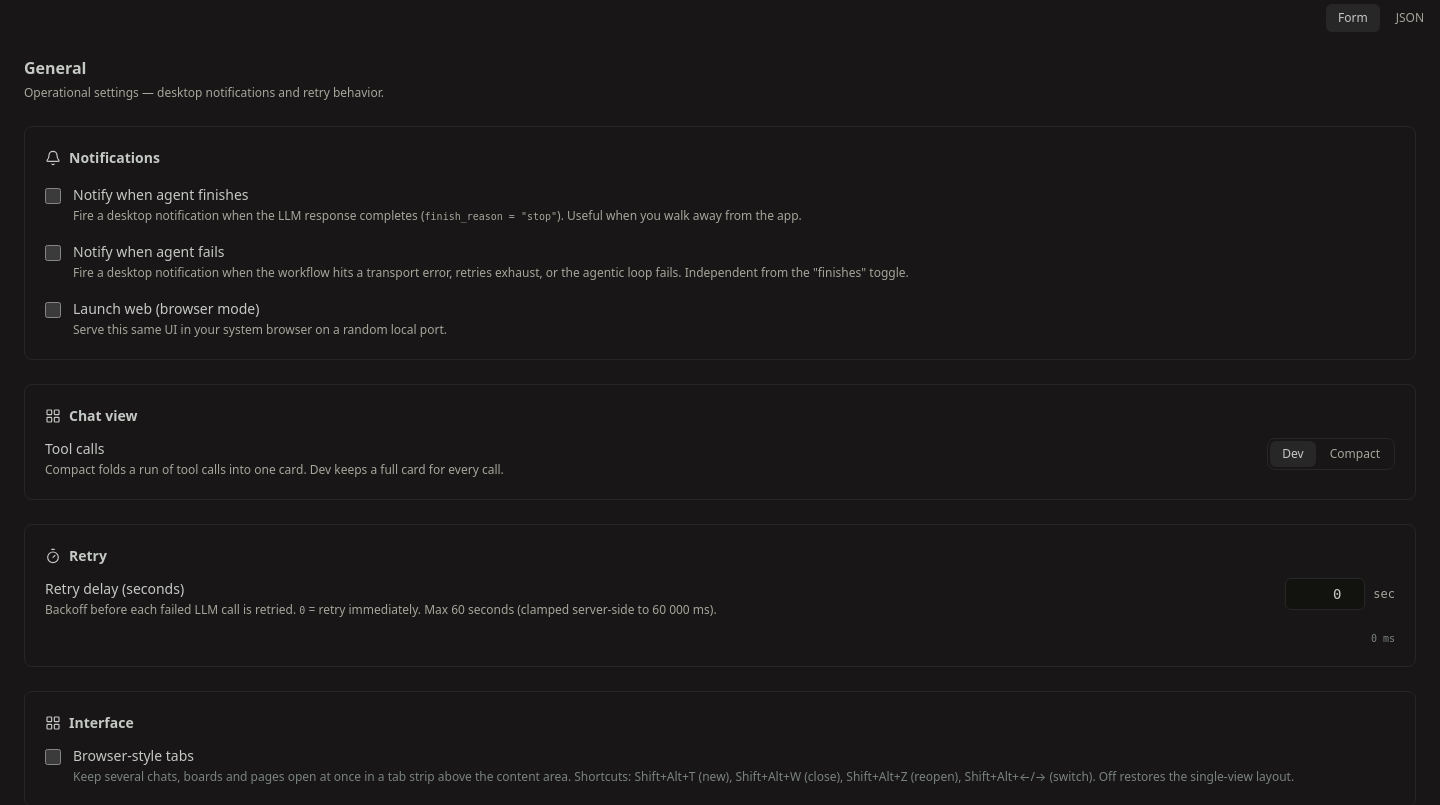
Test case: PabrikConfigEditor (orchestrator) › reports a rejected change in the strip instead of claiming it was saved
The width and height of the screenshot is (1440, 805).
Step 1. Click the checkbox with test id "toggle-notify-on-error" → [53, 253], box [45, 245, 61, 261]
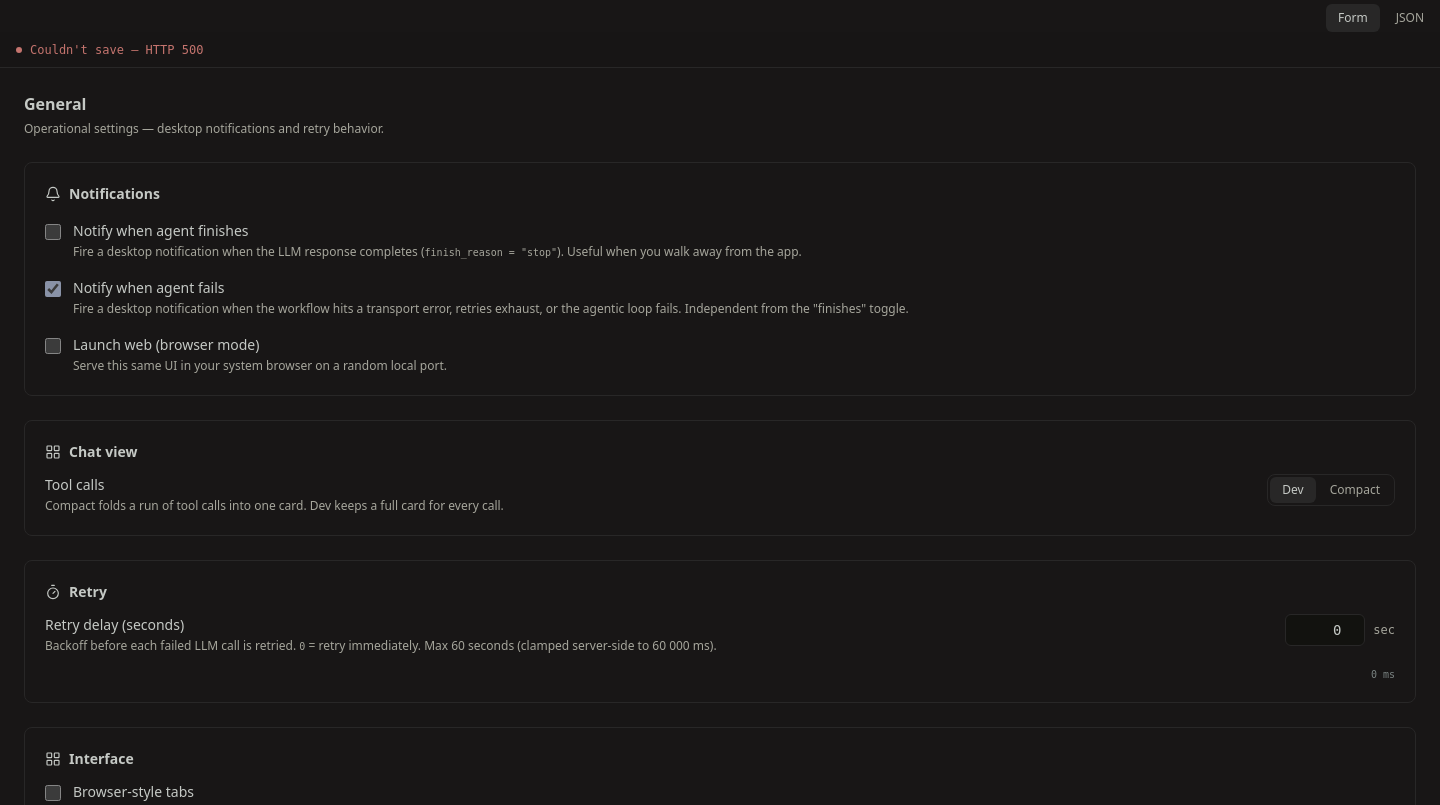
Check: the text with test id "save-status-text" shows "Couldn't save", box [30, 42, 203, 56]
Check: the text with test id "save-status-text" shows "HTTP 500", box [30, 42, 203, 56]
Step 2. Click the checkbox with test id "toggle-notify-on-complete" → [53, 232], box [45, 224, 61, 240]
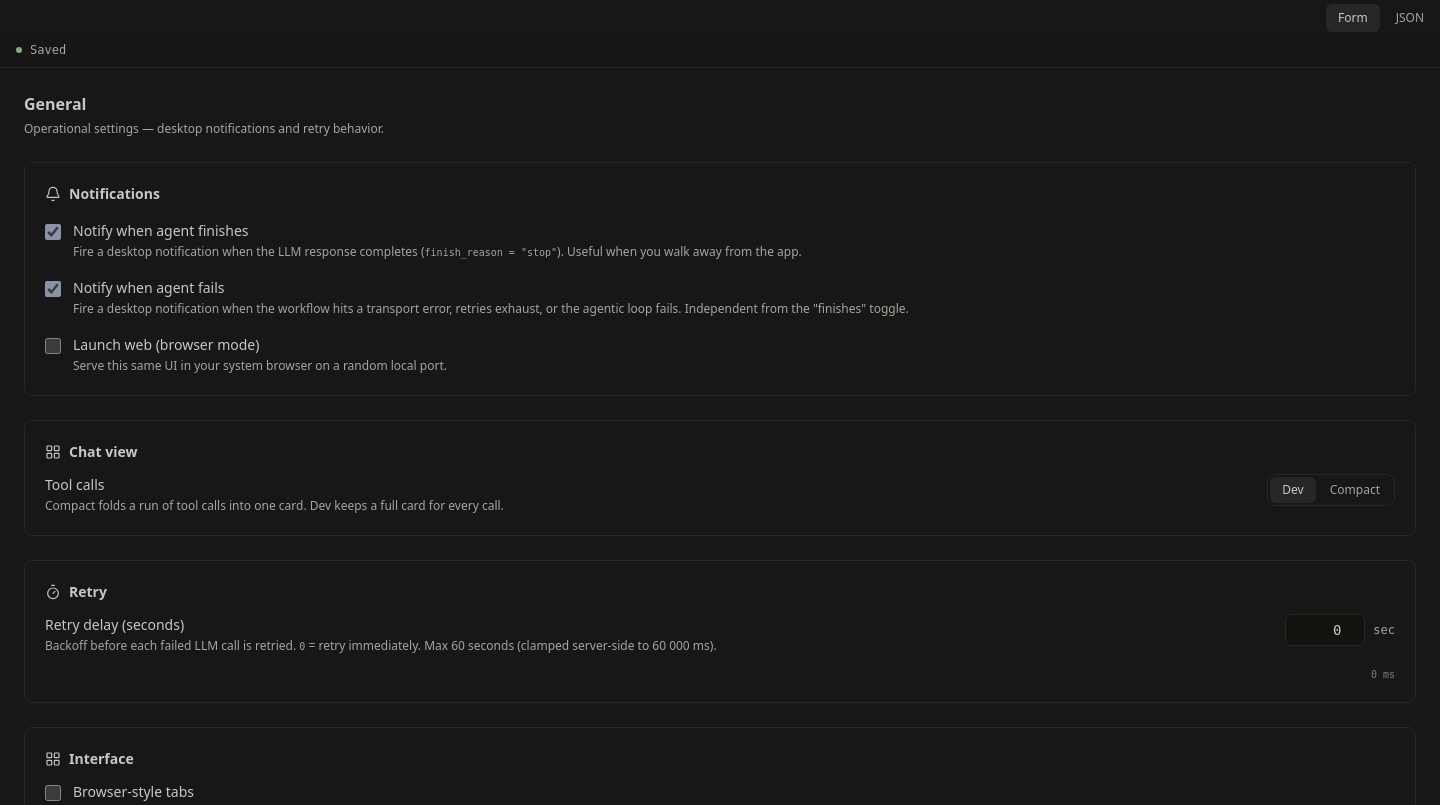
Check: the text with test id "save-status-text" reads "Saved", box [30, 42, 66, 56]
